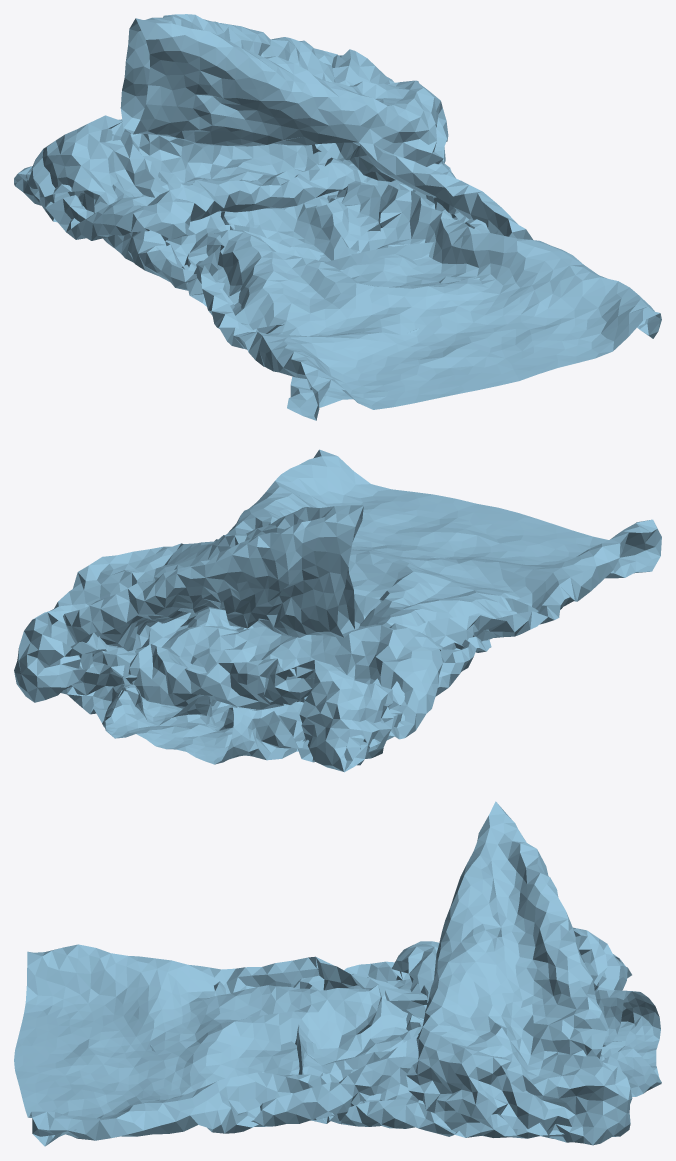
File: frame_17.glb
3 renders of one model, top to bottom at view 1: azimuth 30°, elevation 25°; view 2: azimuth 150°, elevation 25°; view 3: azimuth 270°, elevation 25°, orthographic. The views are drawn at different scales.
Visible parts, largest first — view 1: frame_17.obj; view 2: frame_17.obj; view 3: frame_17.obj.
Boxes of the visible parts, <box> form: frame_17.obj: <box>14,14,661,420</box>; frame_17.obj: <box>14,449,661,772</box>; frame_17.obj: <box>14,801,661,1146</box>.
Size of the model in its own units: 0.9202 by 0.5192 by 1.43.
